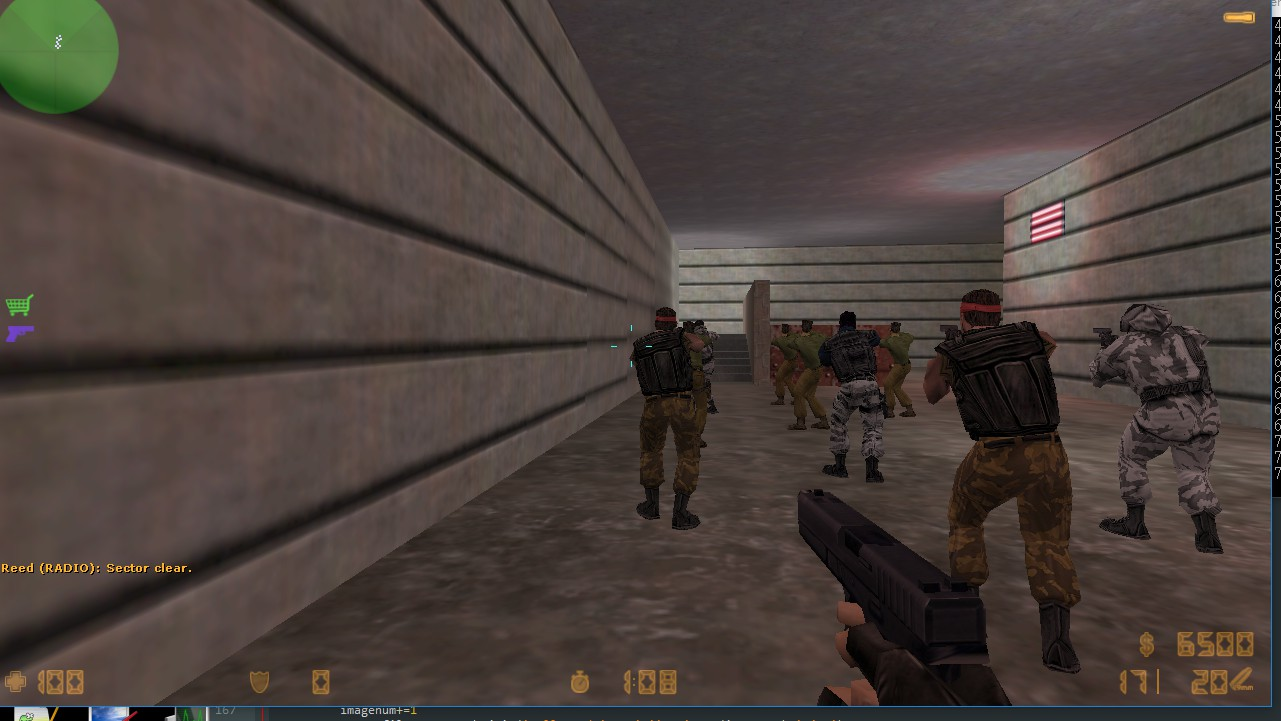person: (933, 285, 1083, 659), (1097, 297, 1238, 560), (625, 301, 713, 540), (820, 308, 883, 473), (793, 314, 829, 425), (880, 319, 917, 420), (779, 325, 793, 401)
